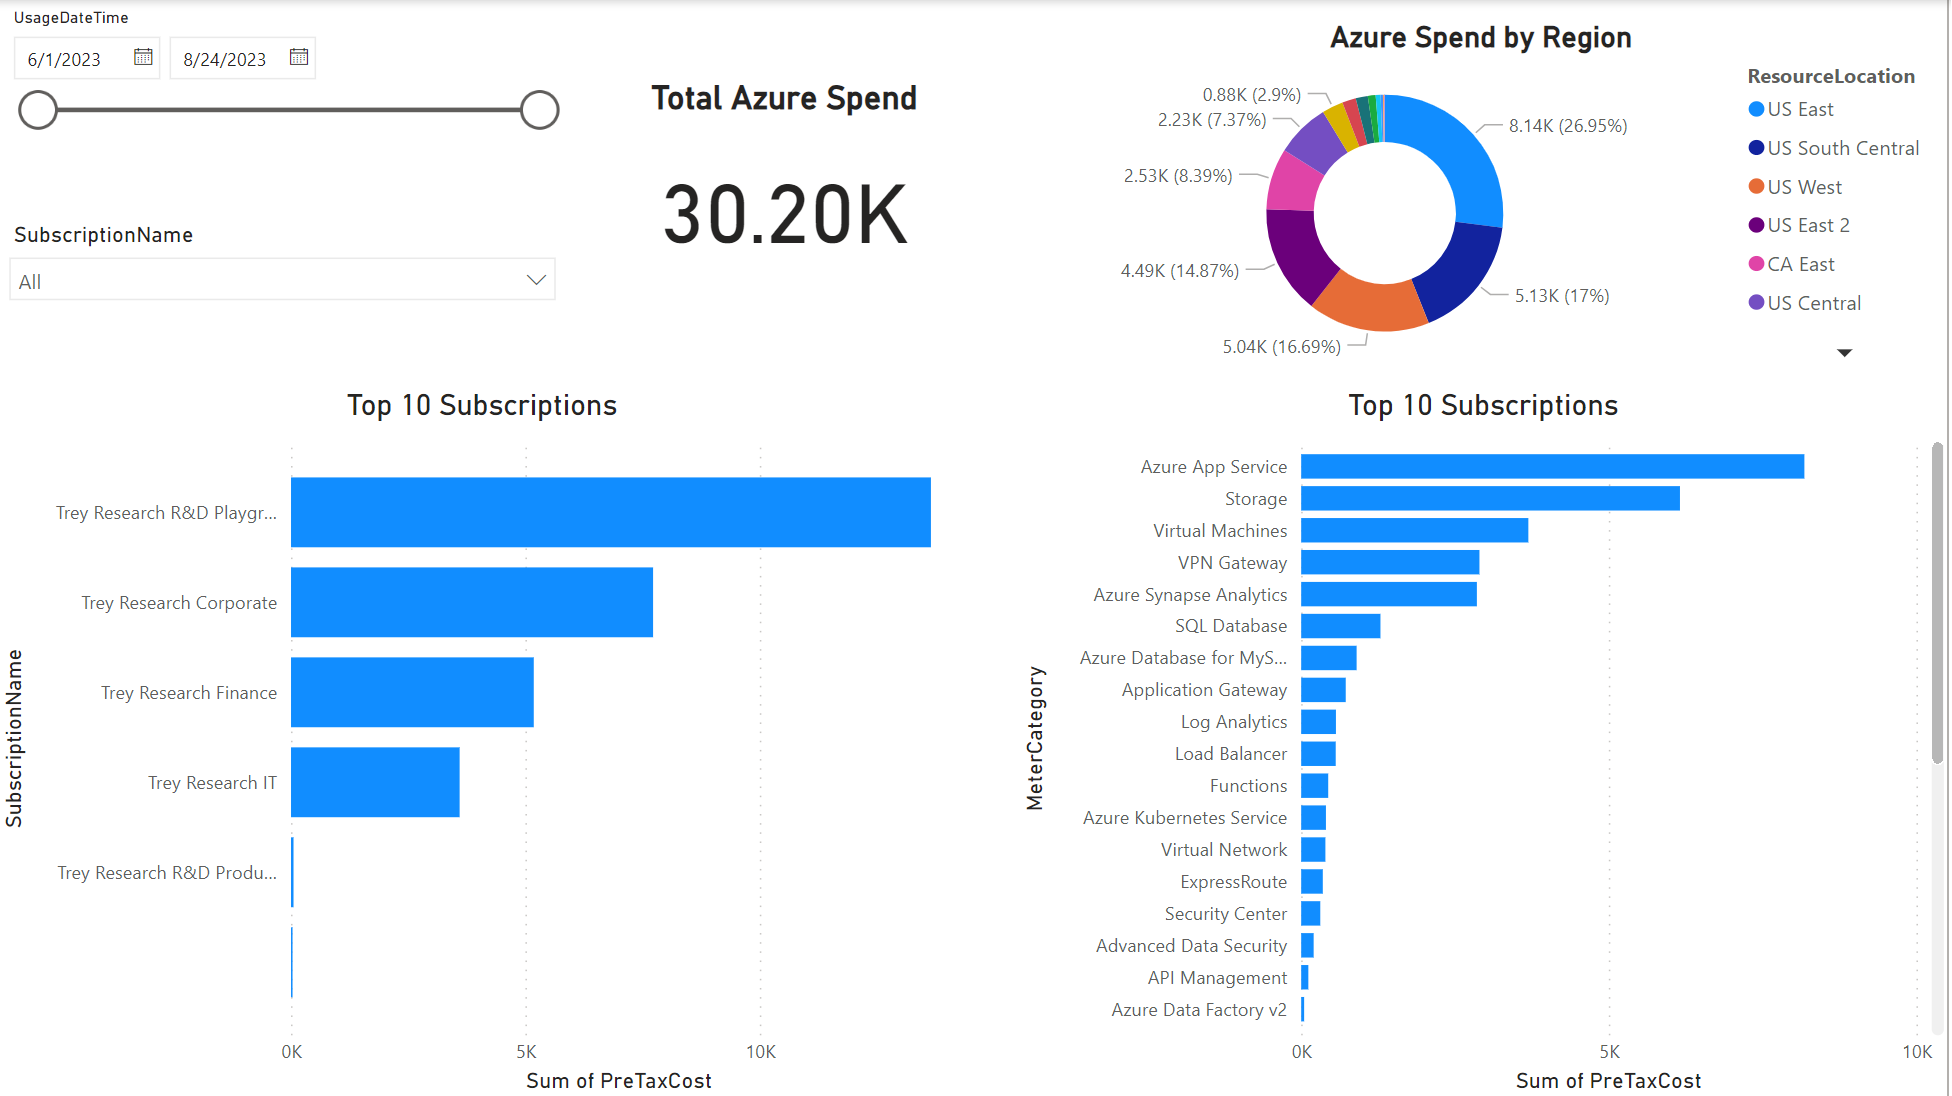

This screenshot's page, from the dashboard's own definition file:
{"tool":"powerbi","page":{"name":"Summary","canvas":[1280,720],"ordinal":1},"visuals":[{"type":"card","title":"Total Azure Spend","fields":{"Values":["Sum(AzureSpend.PreTaxCost)"]},"box":[379.6,51.4,278.3,139.8],"z":0},{"type":"slicer","fields":{"Values":["AzureSpend.UsageDateTime"]},"box":[1.4,0,378.1,111.3],"z":1000},{"type":"clusteredBarChart","title":"Top 10 Subscriptions","fields":{"Category":["AzureSpend.SubscriptionName","AzureSpend.MeterCategory"],"Y":["Sum(AzureSpend.PreTaxCost)"]},"box":[1.4,254,639.3,466.6],"z":2000},{"type":"clusteredBarChart","title":"Top 10 Subscriptions","fields":{"Category":["AzureSpend.MeterCategory","AzureSpend.MeterSubcategory","AzureSpend.MeterName"],"Y":["Sum(AzureSpend.PreTaxCost)"]},"box":[669.3,254,613.6,466.6],"z":3000},{"type":"donutChart","title":"Azure Spend by Region","fields":{"Category":["AzureSpend.ResourceLocation"],"Y":["Sum(AzureSpend.PreTaxCost)"]},"box":[669.3,12.8,610.7,231.2],"z":4000},{"type":"slicer","fields":{"Values":["AzureSpend.SubscriptionName"]},"box":[1.4,139.8,378.1,91.3],"z":5000}]}

Visuals, with their boxes in screenshot pixels (x1, y1, x2, y2), scaled from the page's 1280x720 canvas onto the 1952x1096 screenshot:
"Total Azure Spend" card: [left=579, top=78, right=1003, bottom=291]
slicer - AzureSpend.UsageDateTime: [left=2, top=0, right=579, bottom=169]
"Top 10 Subscriptions" clusteredBarChart: [left=2, top=387, right=977, bottom=1095]
"Top 10 Subscriptions" clusteredBarChart: [left=1021, top=387, right=1951, bottom=1095]
"Azure Spend by Region" donutChart: [left=1021, top=19, right=1951, bottom=371]
slicer - AzureSpend.SubscriptionName: [left=2, top=213, right=579, bottom=352]
